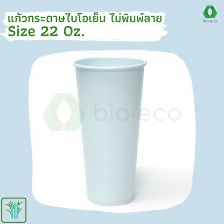paper_cup: (68, 51, 151, 210)
